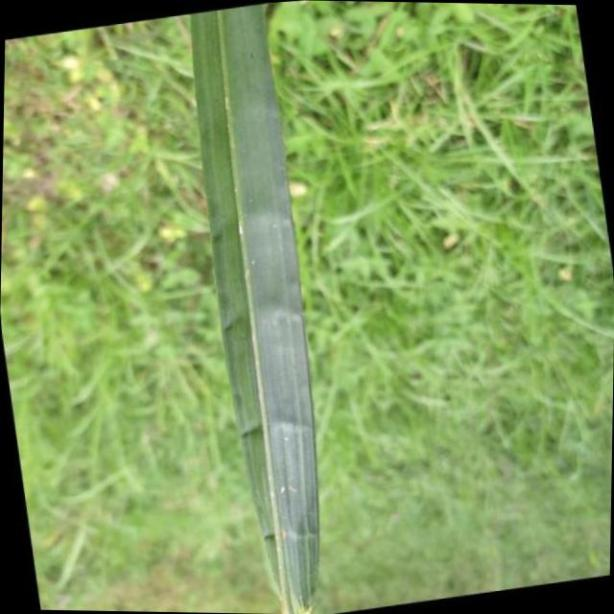Boron: (182, 5, 318, 614)
